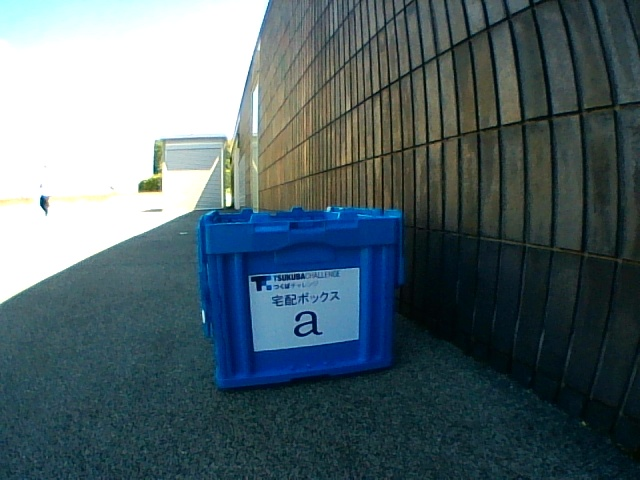blue_box: (199, 207, 402, 387)
tag_a: (264, 281, 349, 339)
